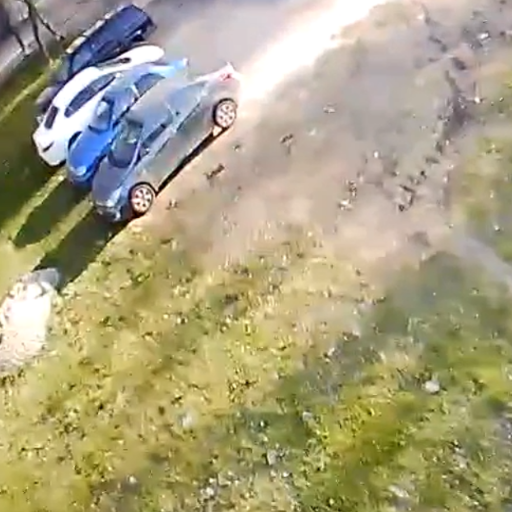Car: (87, 66, 236, 223), (31, 44, 161, 165), (66, 59, 191, 183), (47, 8, 154, 109)
